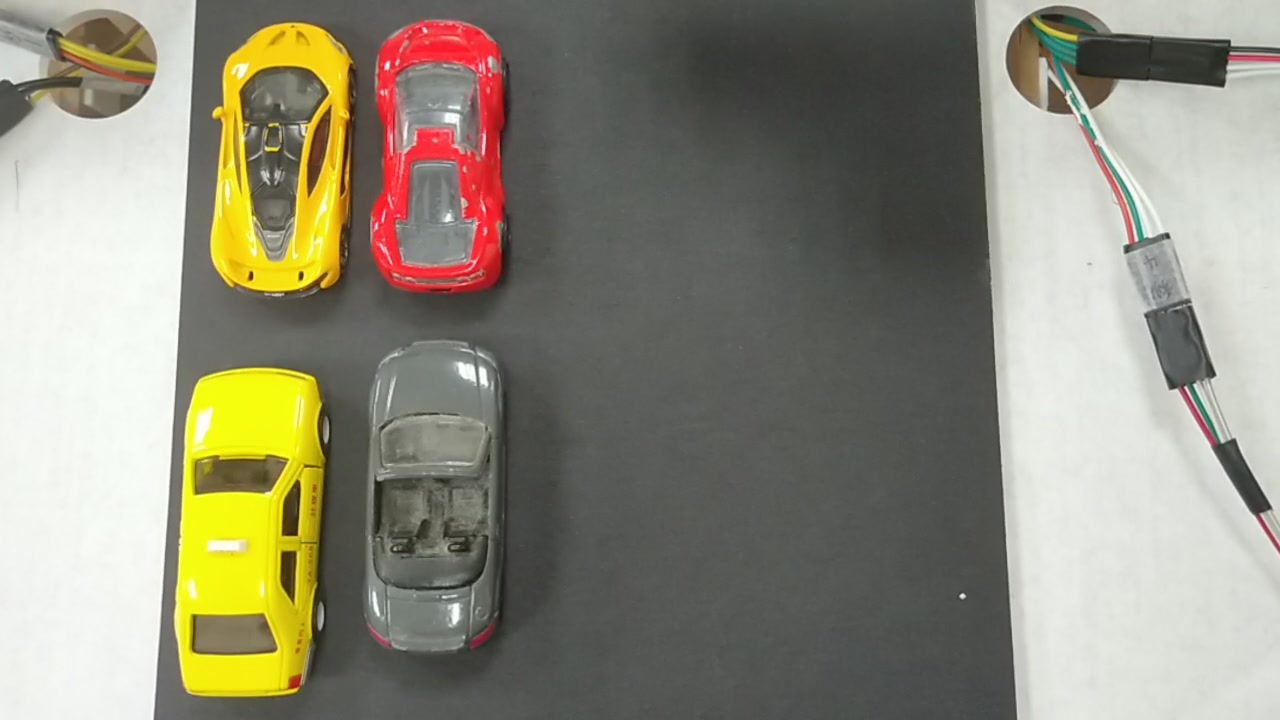car: (178, 365, 327, 700), (374, 349, 501, 644), (216, 32, 354, 288), (377, 25, 504, 288)
